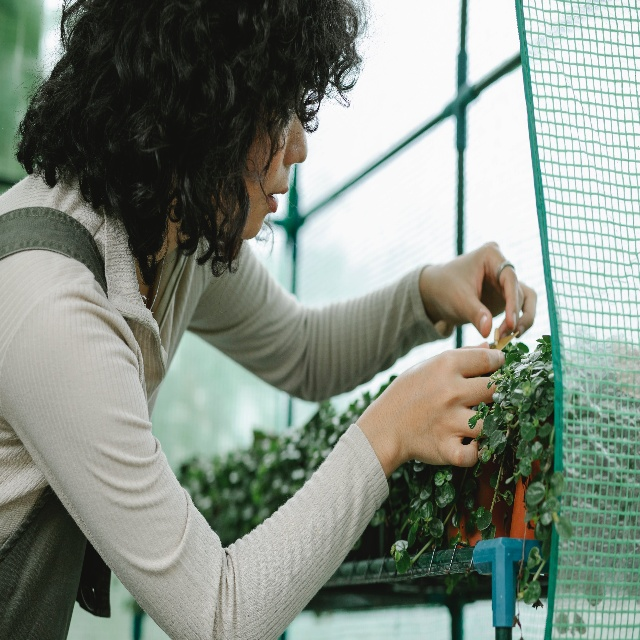Sin_guantes: (385, 338, 504, 469), (430, 240, 538, 338)
